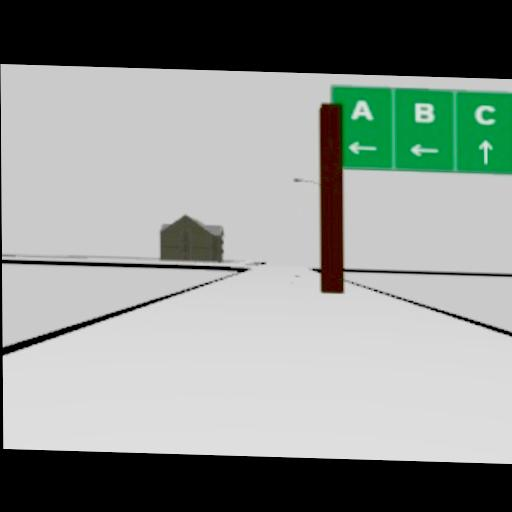A: (351, 97, 373, 120)
B: (414, 101, 434, 122)
C: (474, 103, 496, 124)
Left: (345, 139, 377, 154), (407, 141, 439, 156)
Straight: (477, 137, 493, 164)
